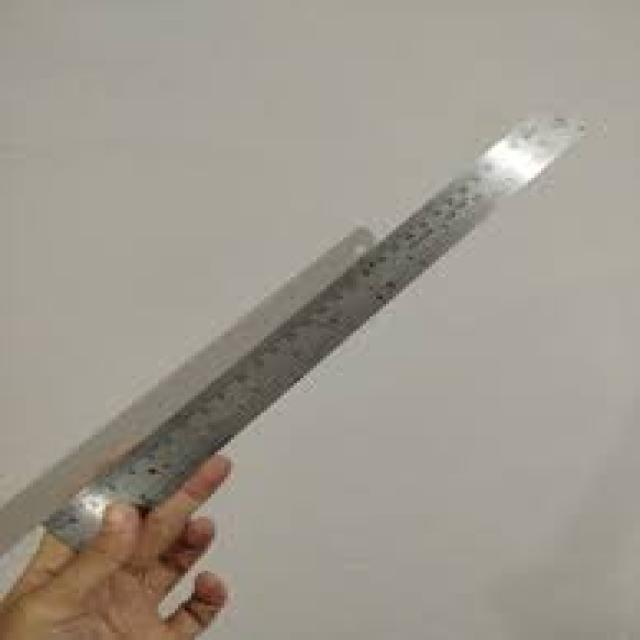Ruler: (37, 119, 581, 557)
